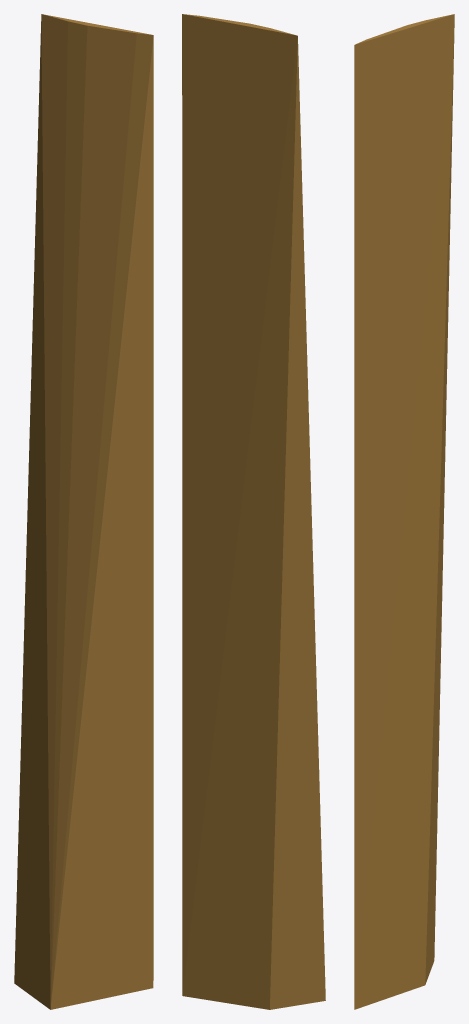
Rendered from simple_example_hole_part_60.obj.
The picture shows the model from 3 angles, left to right: view 1: azimuth 30°, elevation 25°; view 2: azimuth 210°, elevation 25°; view 3: azimuth 270°, elevation 25°; orthographic projection. The views are drawn at different scales.
Size of the model in its own units: 5.5 by 50.19 by 4.74.
